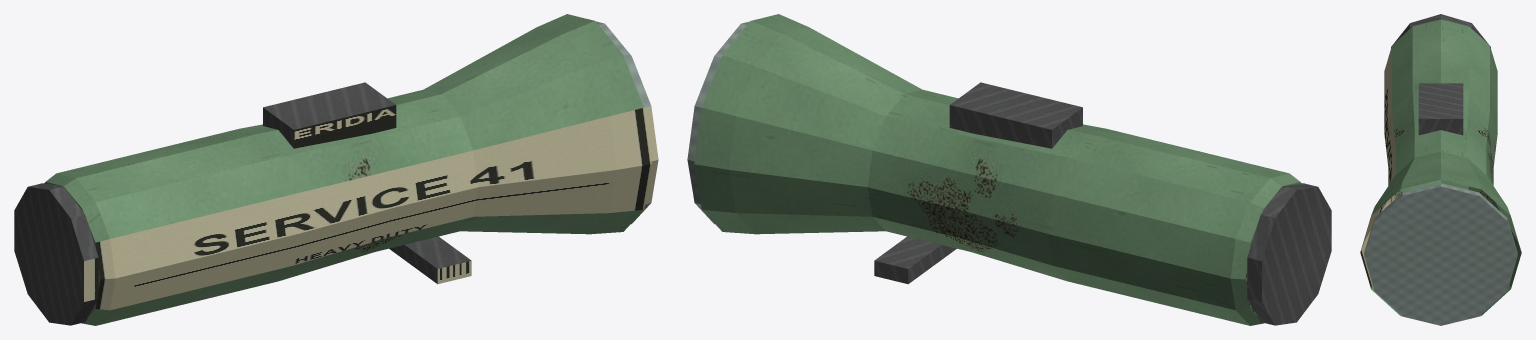
The model's file is flashlight_v3.glb.
3 renders of one model, left to right at view 1: azimuth 30°, elevation 25°; view 2: azimuth 150°, elevation 25°; view 3: azimuth 270°, elevation 25°, orthographic. The views are drawn at different scales.
Visible parts, largest first — view 1: Variant_flashlight_3; view 2: Variant_flashlight_3; view 3: Variant_flashlight_3.
Part boxes in pixels (bbox=[...]): Variant_flashlight_3: bbox=[14, 14, 658, 325]; Variant_flashlight_3: bbox=[687, 14, 1331, 325]; Variant_flashlight_3: bbox=[1360, 14, 1521, 325].
Size of the model in its own units: 0.228 by 0.08 by 0.08.
4 materials, 4 textured.
